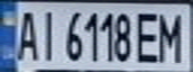1: (97, 8, 118, 62), (81, 8, 100, 62)
6: (60, 7, 84, 62)
8: (112, 8, 136, 63)
A: (12, 6, 42, 62)
E: (133, 8, 163, 63)
I: (36, 6, 60, 62)
M: (154, 8, 187, 63)
